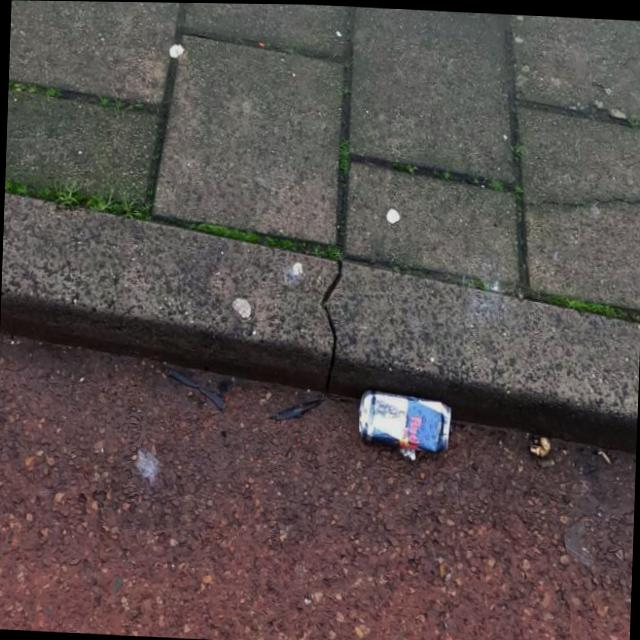Can-Metal: (355, 386, 453, 457)
